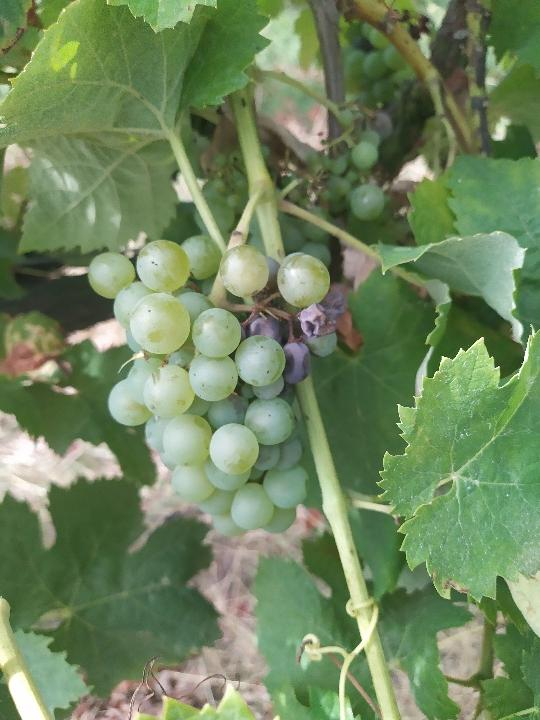grape: (85, 232, 347, 539)
